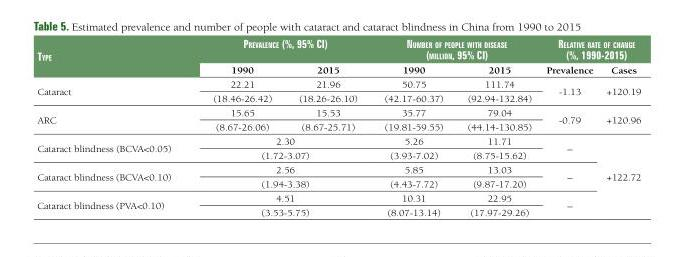table: (36, 36, 640, 217)
table column: (36, 36, 191, 217), (191, 36, 284, 217), (284, 36, 370, 217), (370, 36, 454, 217), (454, 36, 538, 217), (538, 36, 599, 217), (599, 36, 640, 217)
table column header: (36, 36, 640, 77)
table row: (36, 36, 640, 62), (36, 62, 640, 77), (36, 77, 640, 92), (36, 134, 640, 149), (36, 191, 640, 206), (36, 92, 640, 106), (36, 106, 640, 120), (36, 120, 640, 134), (36, 149, 640, 163), (36, 163, 640, 177), (36, 177, 640, 191), (36, 206, 640, 217)
table spanning cell: (36, 36, 191, 77), (191, 36, 370, 62), (36, 77, 191, 106), (36, 134, 191, 163), (370, 36, 538, 62), (36, 106, 191, 134), (36, 163, 191, 191), (36, 191, 191, 217), (599, 134, 640, 217), (191, 134, 370, 149), (191, 191, 370, 206), (538, 36, 640, 62), (191, 149, 370, 163), (191, 163, 370, 177), (191, 177, 370, 191), (191, 206, 370, 217), (538, 77, 599, 106), (538, 134, 599, 163), (538, 106, 599, 134), (538, 163, 599, 191), (538, 191, 599, 217), (599, 77, 640, 106), (599, 106, 640, 134)
